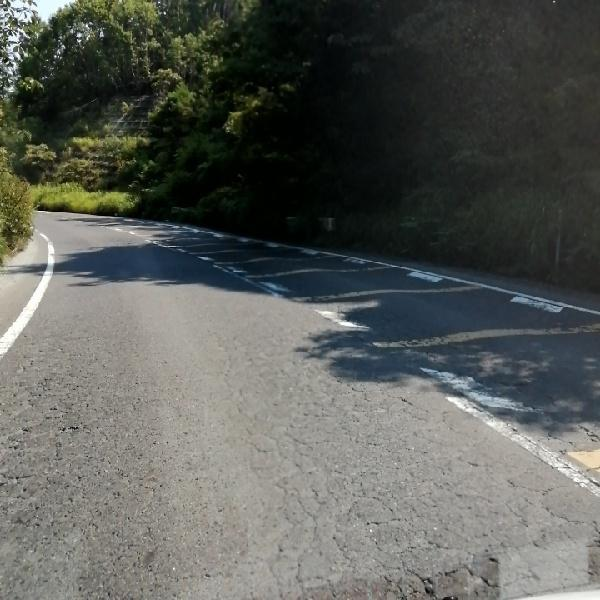pothole: (338, 536, 590, 595)
